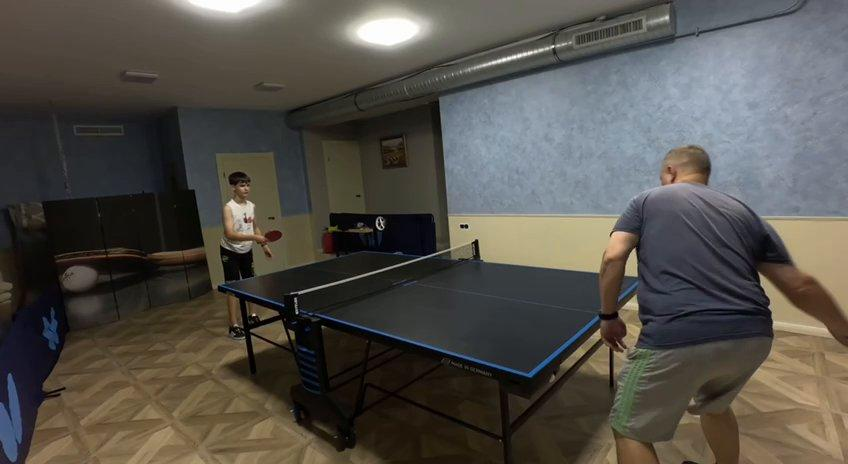Net: (283, 240, 481, 321)
Player1: (220, 172, 271, 279)
Player2: (610, 145, 810, 463)
Table: (222, 253, 640, 377)
